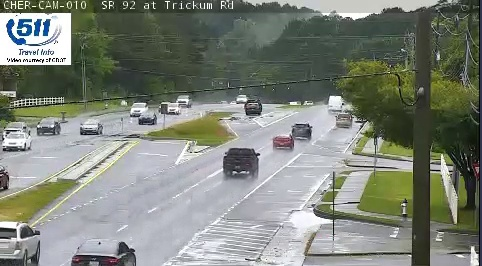car: (72, 240, 139, 266), (222, 148, 258, 173), (272, 135, 294, 150), (291, 123, 311, 139), (336, 112, 352, 126)
